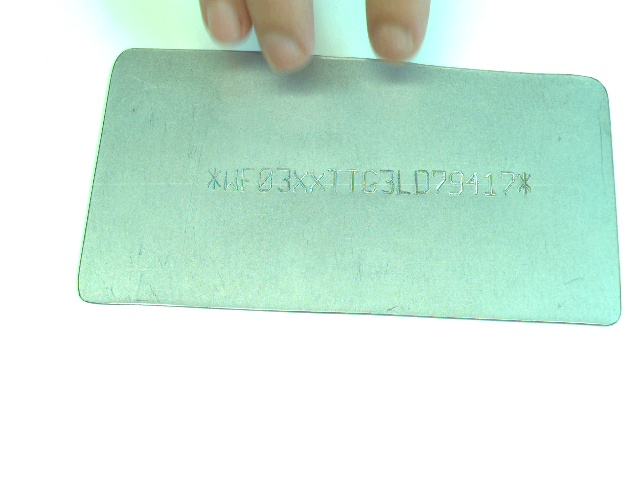0: (257, 167, 275, 193)
1: (481, 170, 498, 199)
3: (379, 168, 396, 195), (276, 167, 292, 193)
4: (465, 169, 482, 197)
7: (500, 169, 516, 199), (431, 168, 448, 196)
9: (448, 169, 466, 197)
d: (413, 168, 430, 196)
f: (239, 165, 255, 192)
g: (362, 168, 378, 195)
l: (397, 169, 413, 197)
t: (327, 165, 343, 195), (344, 168, 361, 195)
w: (222, 166, 241, 191)
x: (292, 168, 309, 194), (309, 169, 326, 194)
